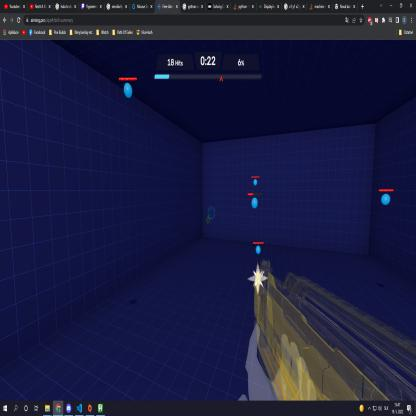sphere: (123, 81, 133, 100), (381, 193, 391, 206), (250, 197, 258, 209), (255, 245, 261, 255), (253, 179, 258, 186)
